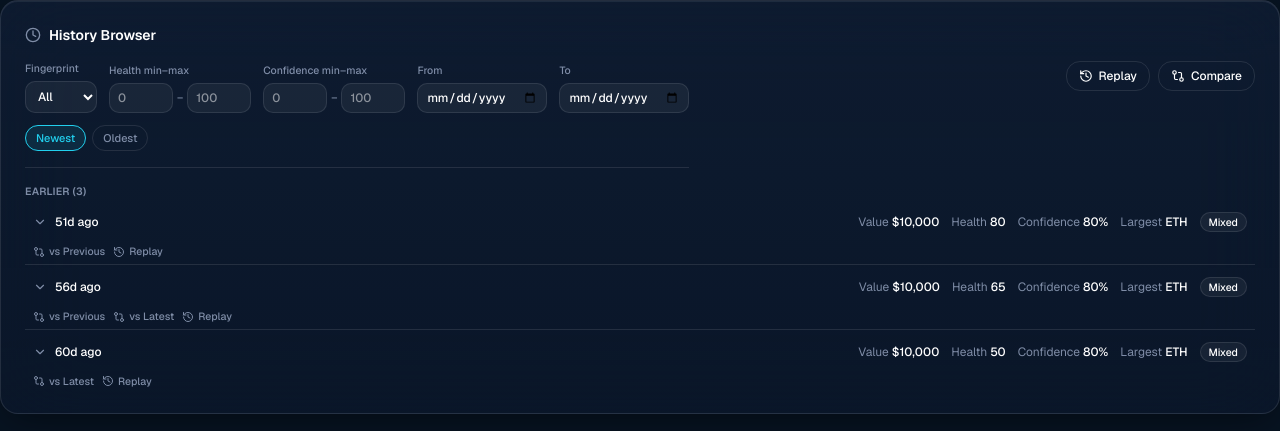
it: HistoryBrowserSection — Replay › FIRST SNAPSHOT: 'First snapshot' jumps to the real oldest, and disables First/Previous there
The image size is (1280, 431).
What coordinates should you click on to do the following:
click the button "Replay" in the row of "From"
I would click on:
 (1108, 76)
Its box is x1=1066 y1=61 x2=1150 y2=91.
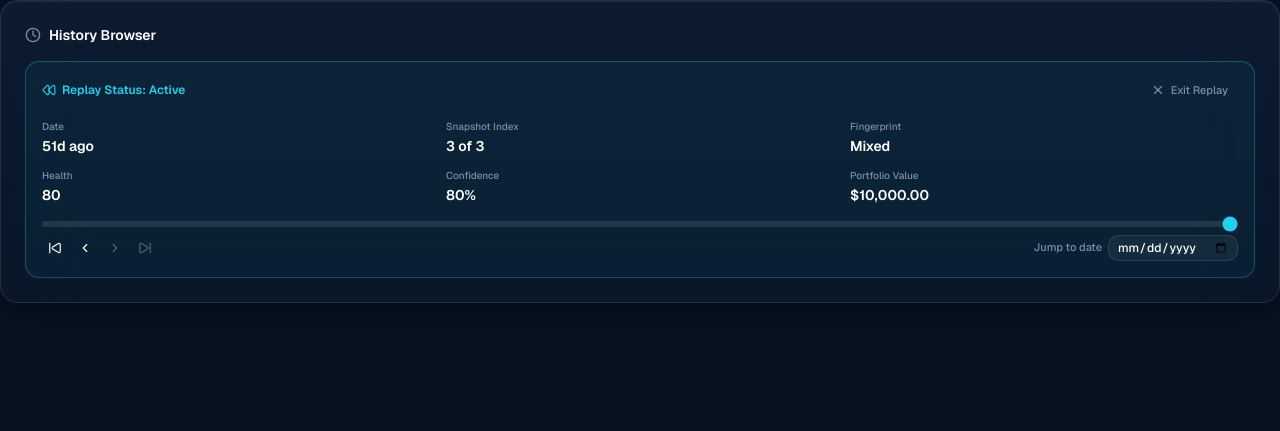
What coordinates should you click on to do the following:
click the button named "First snapshot"
I would click on:
 (55, 248)
Its box is x1=42 y1=234 x2=68 y2=260.
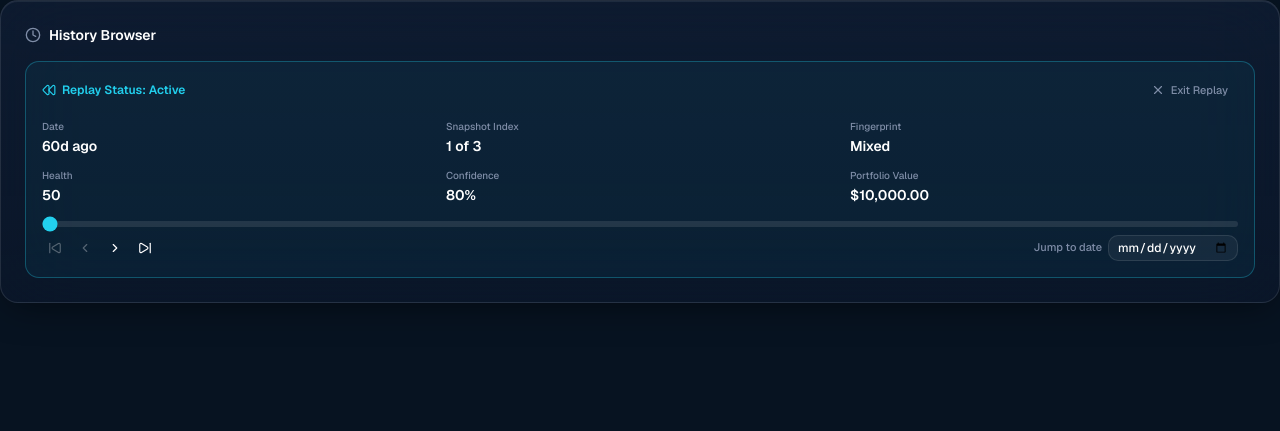
Check: the text "1 of 3" is shown, box x1=446 y1=136 x2=482 y2=154
Check: the text "50" is shown, box x1=42 y1=186 x2=60 y2=204
Check: the button named "First snapshot" is disabled, box x1=42 y1=234 x2=68 y2=260
